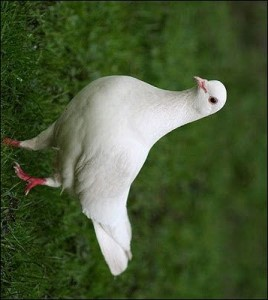pigeon: (2, 71, 230, 279)
